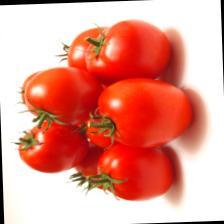tomato: (87, 74, 193, 150), (82, 16, 172, 86), (84, 140, 174, 202), (22, 64, 104, 128), (10, 118, 88, 174)
